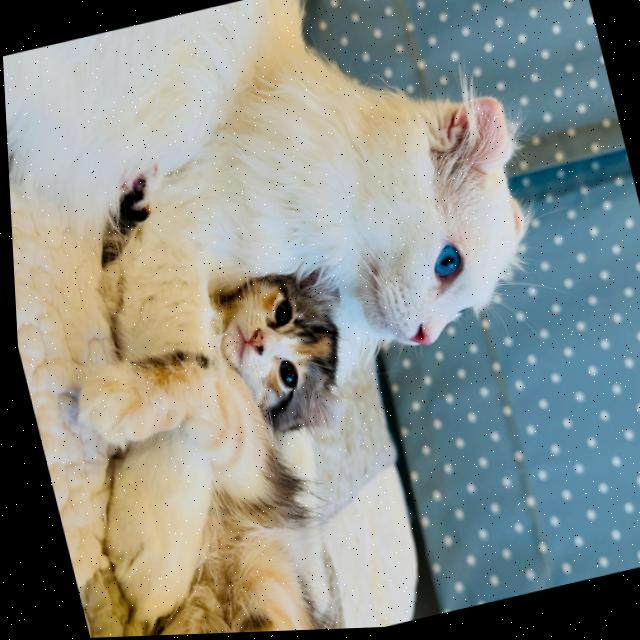American Curl: (0, 0, 610, 636), (51, 255, 420, 639)
